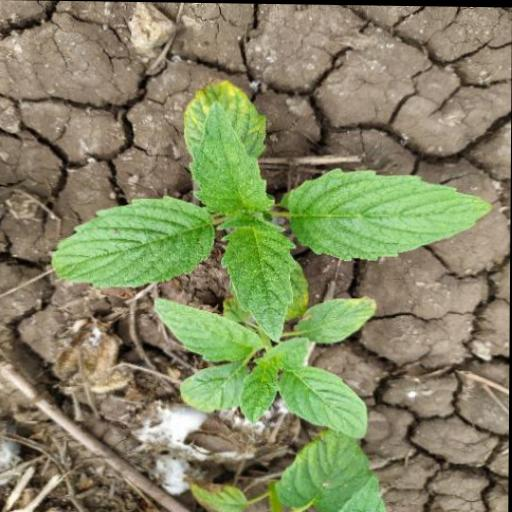crop: (39, 65, 501, 439)
